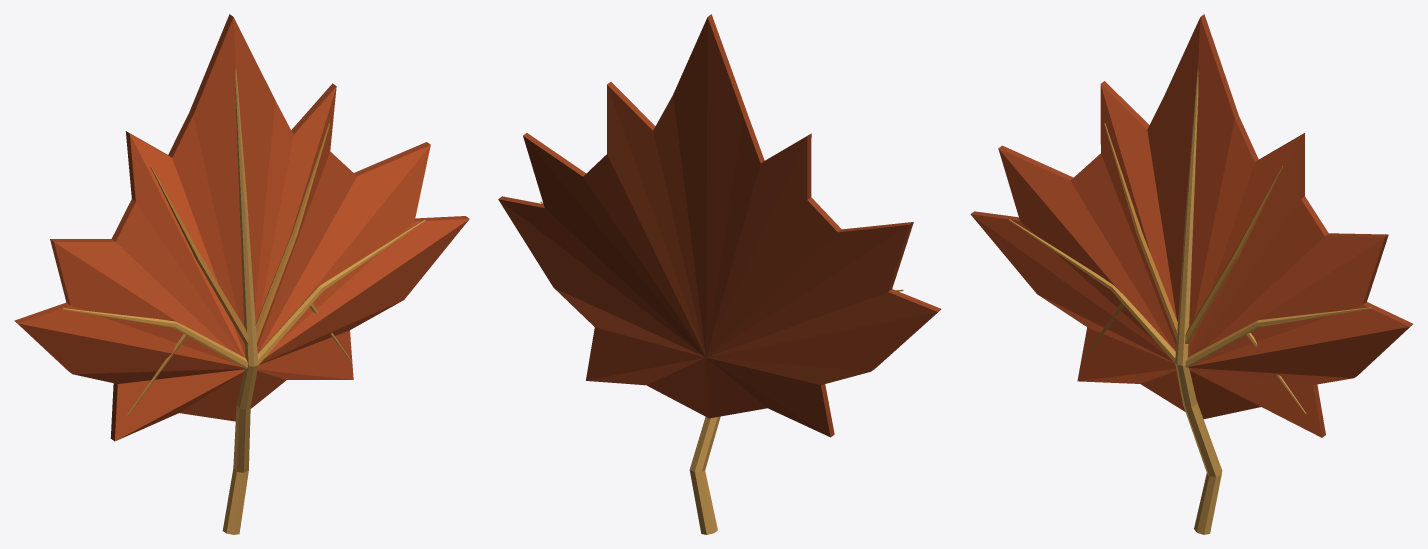
The model's file is Maple_Leaf.glb.
3 views of the same model, side by side, from view 1: azimuth 30°, elevation 25°; view 2: azimuth 150°, elevation 25°; view 3: azimuth 330°, elevation 25° (orthographic).
Visible parts, largest first — view 1: Maple_Leaf; view 2: Maple_Leaf; view 3: Maple_Leaf.
Part boxes in pixels (bbox=[...]): Maple_Leaf: bbox=[14, 14, 469, 534]; Maple_Leaf: bbox=[498, 14, 941, 534]; Maple_Leaf: bbox=[970, 14, 1412, 534].
Bounding box in the file's own units: 1.4 × 1.55 × 0.1636.
